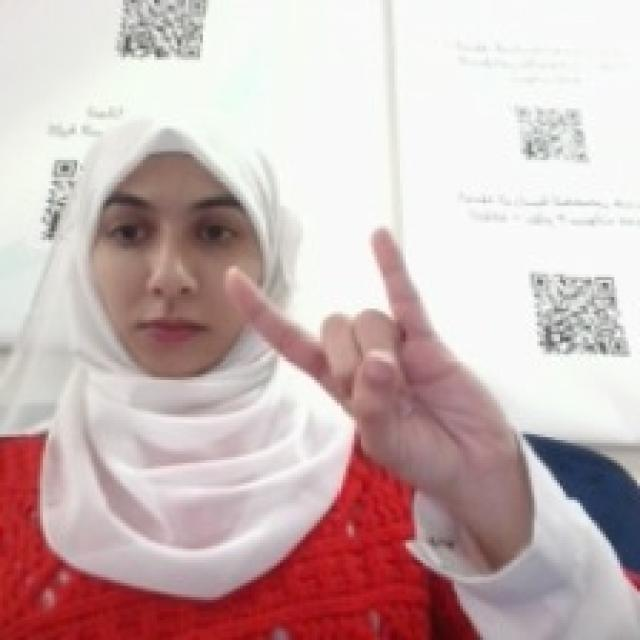No: (219, 221, 515, 482)
